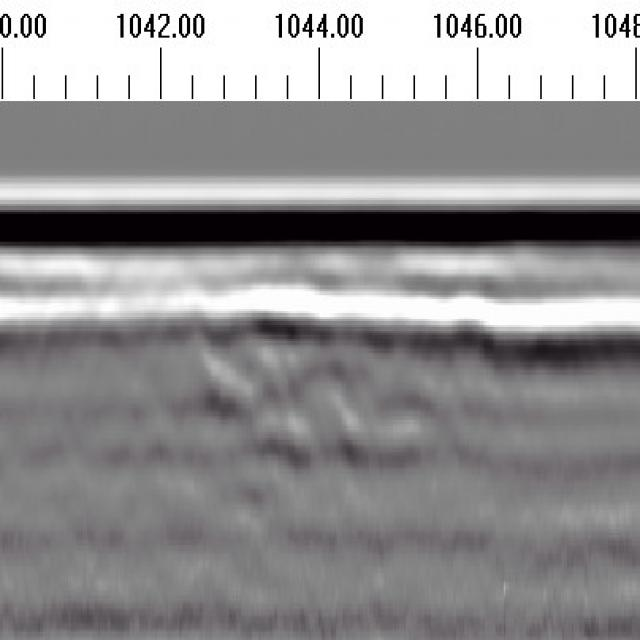loose: (210, 324, 459, 482)
